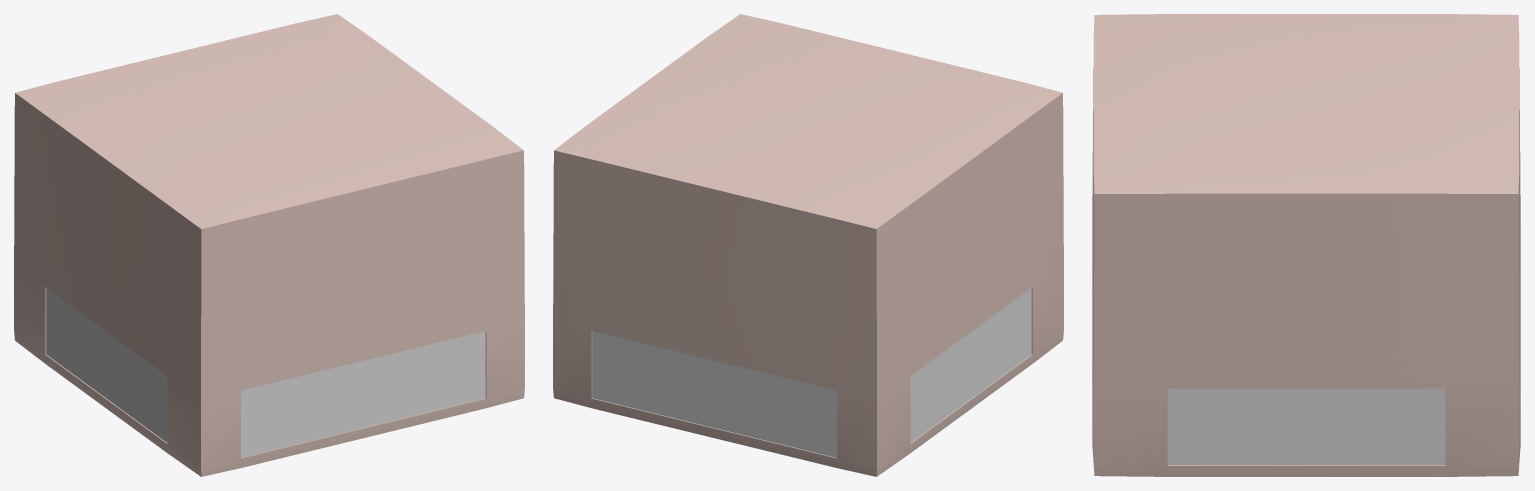
Rendered from lobby scene1.fbx.
3 views of the same model, side by side, from view 1: azimuth 30°, elevation 25°; view 2: azimuth 150°, elevation 25°; view 3: azimuth 270°, elevation 25° (orthographic). The views are drawn at different scales.
Visible parts, largest first — view 1: Cube.001, Cube.002; view 2: Cube.001, Cube.002; view 3: Cube.001, Cube.002.
Part boxes in pixels (x1,y1,x2,y2): Cube.001: (14, 14, 524, 476); Cube.002: (46, 288, 485, 457); Cube.001: (553, 14, 1063, 476); Cube.002: (592, 288, 1031, 457); Cube.001: (1092, 14, 1520, 476); Cube.002: (1167, 388, 1445, 465).
Size of the model in its own units: 2050 by 1509 by 2050.
